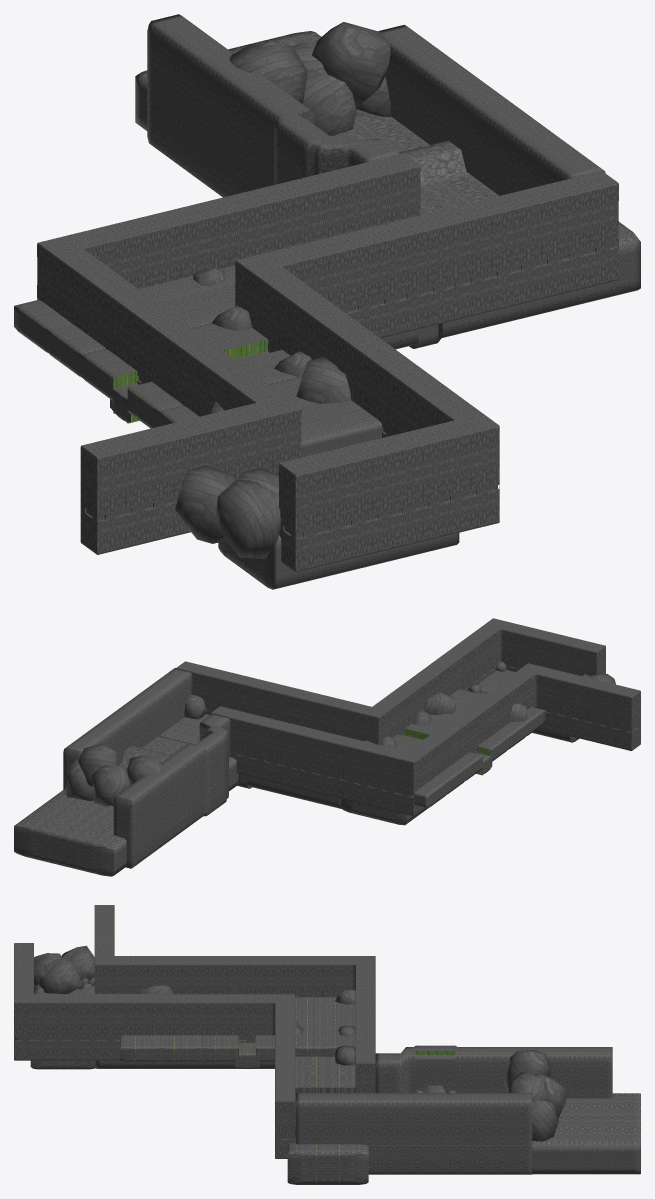
Rendered from Nivel4.FBX.
3 views of the same model, one above another, from view 1: azimuth 30°, elevation 25°; view 2: azimuth 150°, elevation 25°; view 3: azimuth 270°, elevation 25° (orthographic). The views are drawn at different scales.
Parts seen in each view (by area): view 1: Object081, Object077, Object079, Object086, Object080, Object085, Object084, Sphere353, Sphere325, Object082, Sphere326, Sphere352 (+2 smaller); view 2: Object077, Object081, Object079, Object085, Object080, Object086, Object084, Sphere337, Object083, Sphere353, Sphere338, Object082 (+3 smaller); view 3: Object081, Object080, Object077, Object079, Object085, Object086, Object084, Sphere327, Object083, Sphere352, Sphere338, Sphere353 (+4 smaller).
Boxes of the visible parts, x1,y1,x2,y2 form: Object081: (235,171,618,572); Object077: (37,153,420,554); Object079: (147,14,400,197); Object086: (14,266,383,457); Object080: (378,24,605,195); Object085: (135,31,498,214); Object084: (380,222,640,349); Sphere353: (312,22,390,106); Sphere325: (216,480,280,558); Object082: (218,533,459,589); Sphere326: (175,465,237,543); Sphere352: (229,44,307,103); Object077: (211,663,640,816); Object081: (176,618,605,744); Object079: (113,713,230,868); Object085: (14,735,240,876); Object080: (63,668,192,789); Object086: (393,689,545,808); Object084: (160,714,341,808); Sphere337: (92,764,130,806); Object083: (341,691,507,825); Sphere353: (78,743,116,786); Sphere338: (64,759,93,801); Object082: (477,670,579,742); Object081: (14,943,295,1158); Object080: (295,1093,532,1174); Object077: (94,905,375,1092); Object079: (375,1045,612,1098); Object085: (423,1085,640,1174); Object086: (120,997,355,1068); Object084: (287,1056,368,1184); Sphere327: (39,956,83,993); Object083: (95,1060,274,1068); Sphere352: (504,1050,551,1092); Sphere338: (532,1099,558,1141); Sphere353: (508,1071,551,1102).
Bounding box in the file's own units: 1568 × 316 × 2023.
